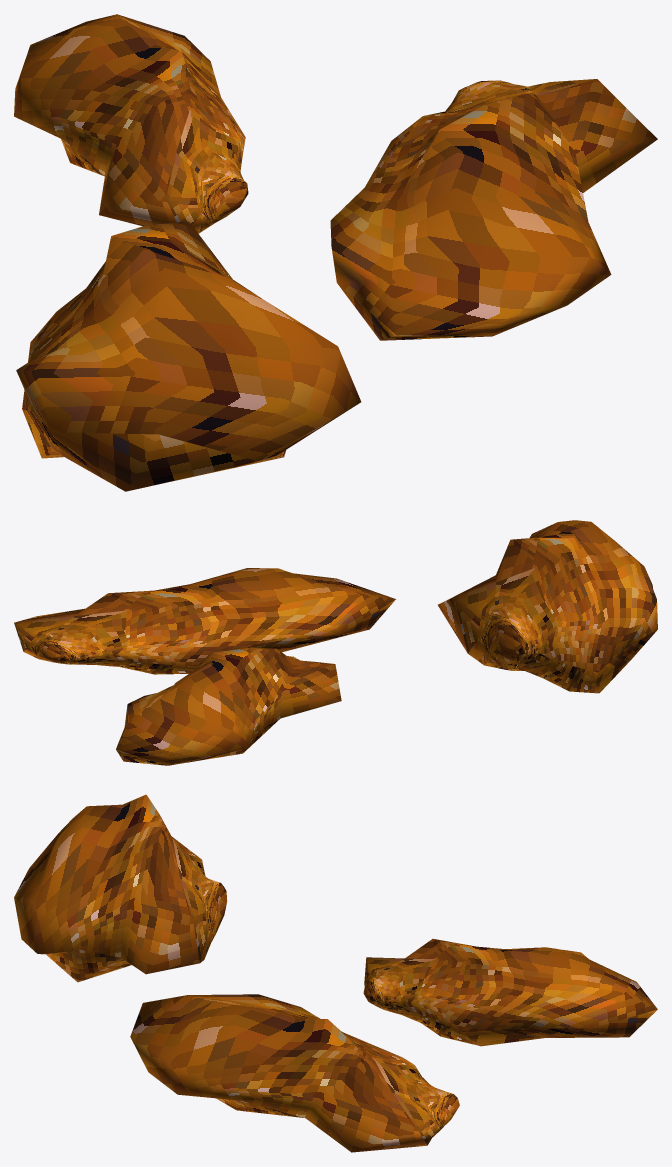
Rendered from D_Feces3.fbx.
3 renders of one model, top to bottom at view 1: azimuth 30°, elevation 25°; view 2: azimuth 150°, elevation 25°; view 3: azimuth 270°, elevation 25°, orthographic. The views are drawn at different scales.
Visible parts, largest first — view 1: Body.003, Body.002, Body; view 2: Body.003, Body.002, Body; view 3: Body.002, Body.003, Body.
Boxes of the visible parts, box(x1,y1,x2,y2) form: Body.003: box(16, 221, 361, 491); Body.002: box(330, 79, 657, 340); Body: box(14, 14, 248, 233); Body.003: box(438, 520, 657, 693); Body.002: box(14, 568, 395, 674); Body: box(116, 648, 341, 765); Body.002: box(130, 994, 459, 1152); Body.003: box(14, 794, 227, 982); Body: box(363, 939, 657, 1046).
Size of the model in its own units: 0.3344 by 0.0879 by 0.3403.
